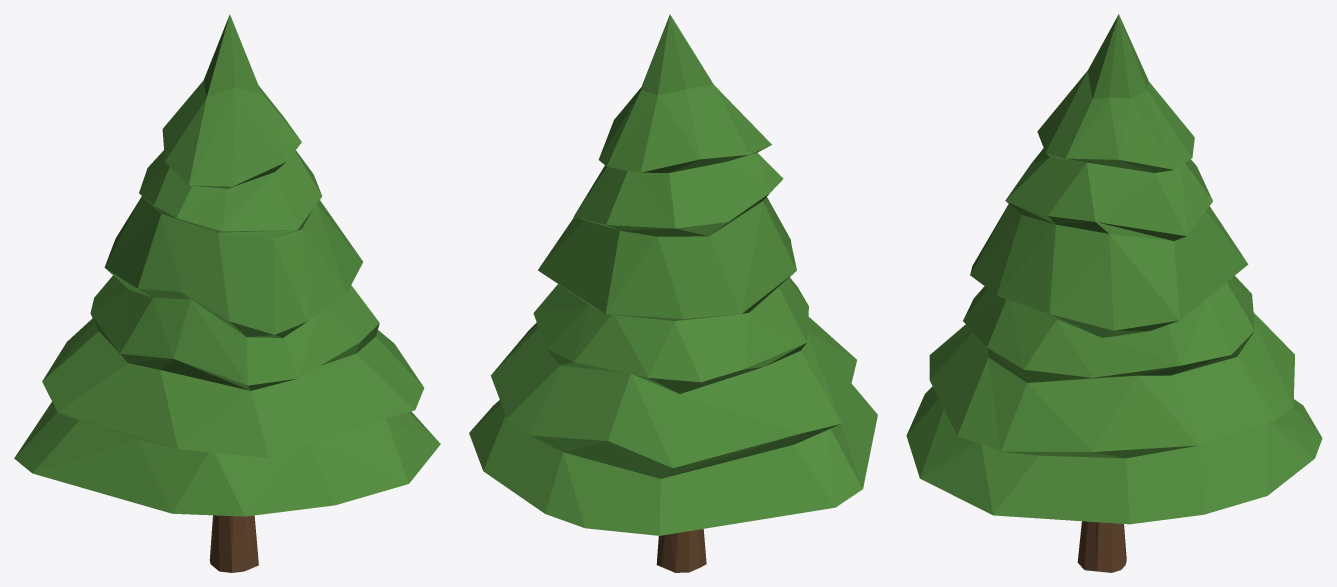
Rendered from shaped-tree-pyramidal.glb.
The picture shows the model from 3 angles, left to right: view 1: azimuth 30°, elevation 25°; view 2: azimuth 150°, elevation 25°; view 3: azimuth 270°, elevation 25°; orthographic projection. The views are drawn at different scales.
Visible parts, largest first — view 1: leaves_Sphere, trunk_Cube; view 2: leaves_Sphere, trunk_Cube; view 3: leaves_Sphere, trunk_Cube.
Boxes of the visible parts, <box> form: leaves_Sphere: <box>14,14,440,516</box>; trunk_Cube: <box>209,515,258,572</box>; leaves_Sphere: <box>469,14,877,535</box>; trunk_Cube: <box>656,529,706,572</box>; leaves_Sphere: <box>906,14,1322,524</box>; trunk_Cube: <box>1077,521,1126,572</box>.
Size of the model in its own units: 6.24 by 8.98 by 6.13.
